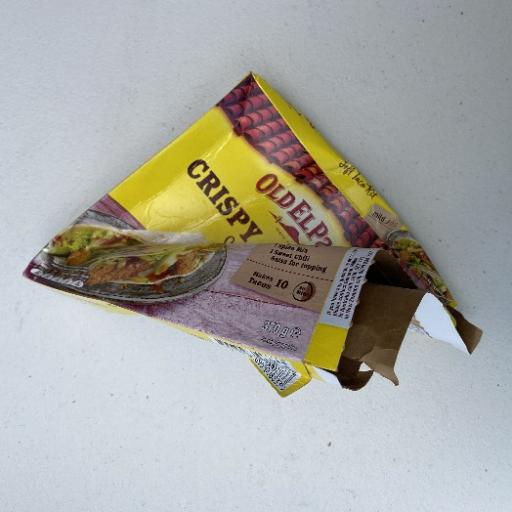Cardboard: (20, 70, 482, 397)
